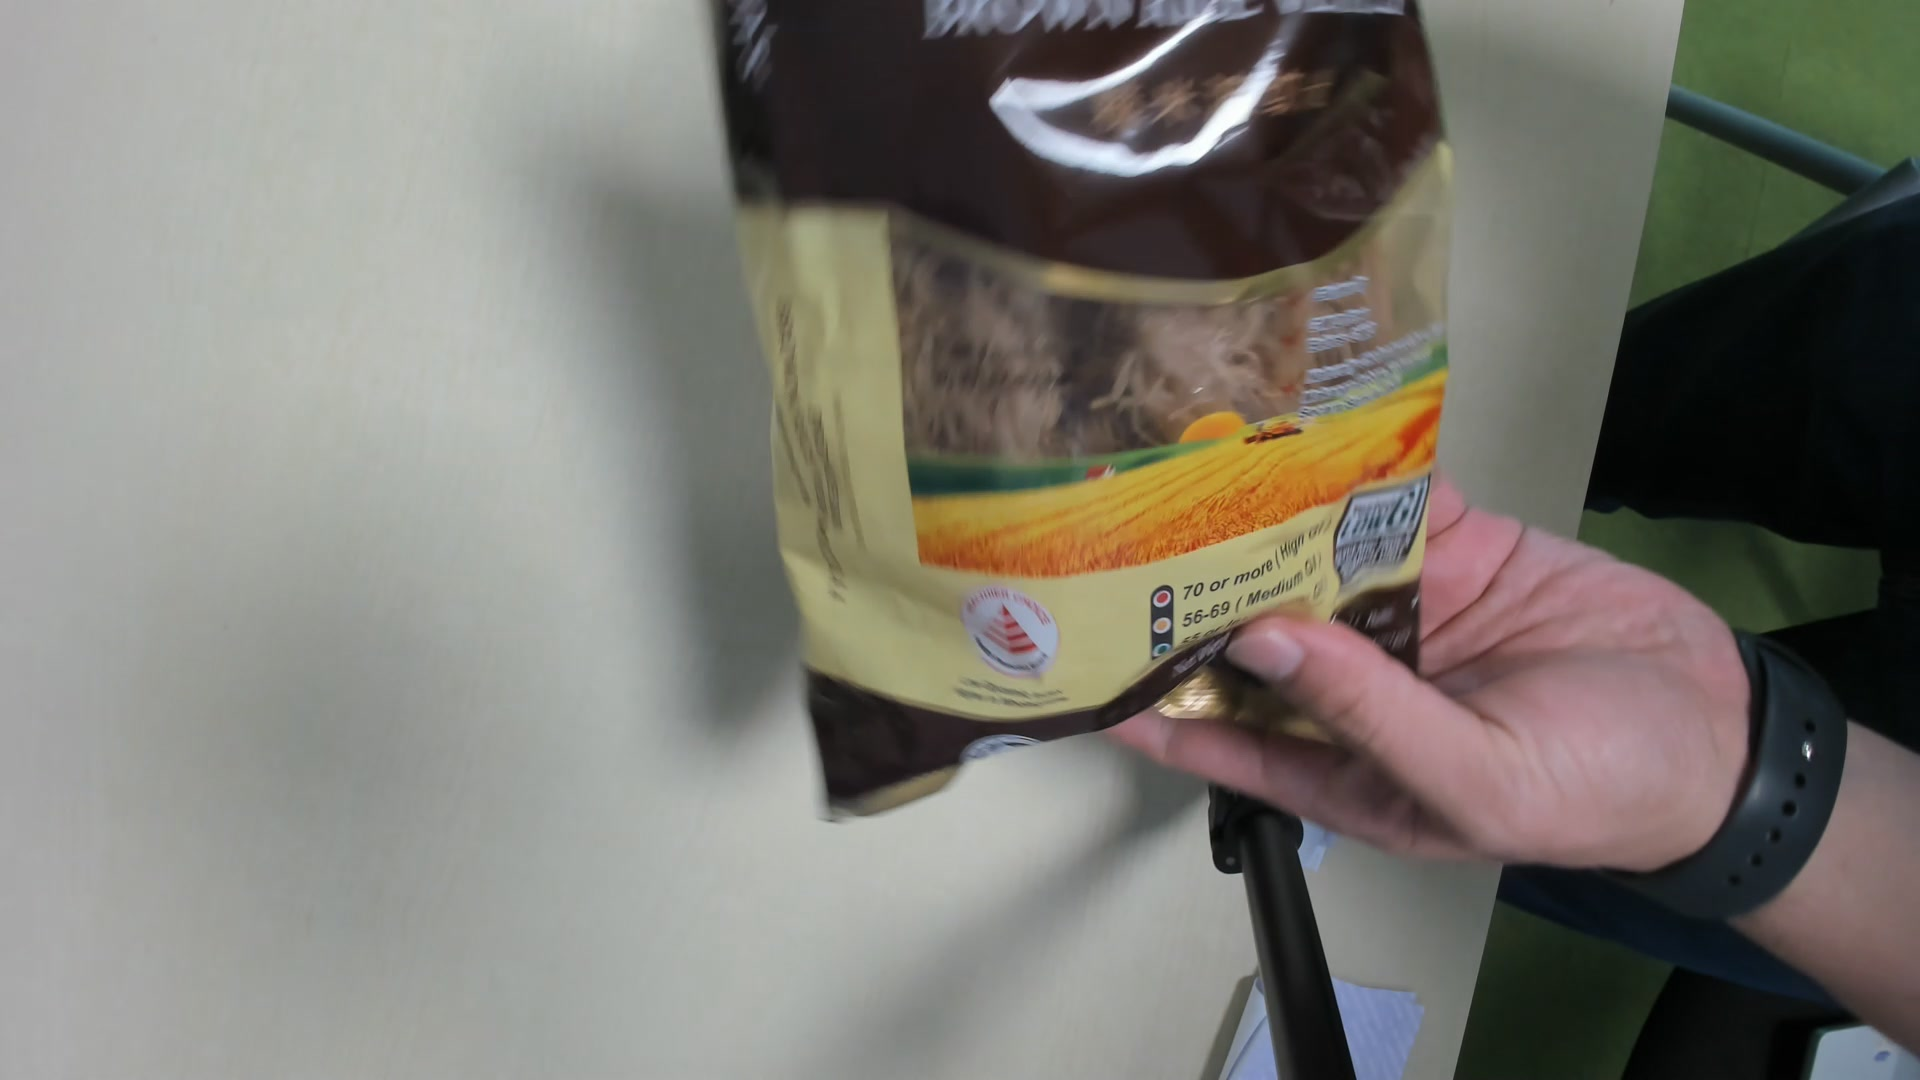BeeHoonVermicelli_300-399g_Halal_Healthy: (702, 7, 1456, 787)
